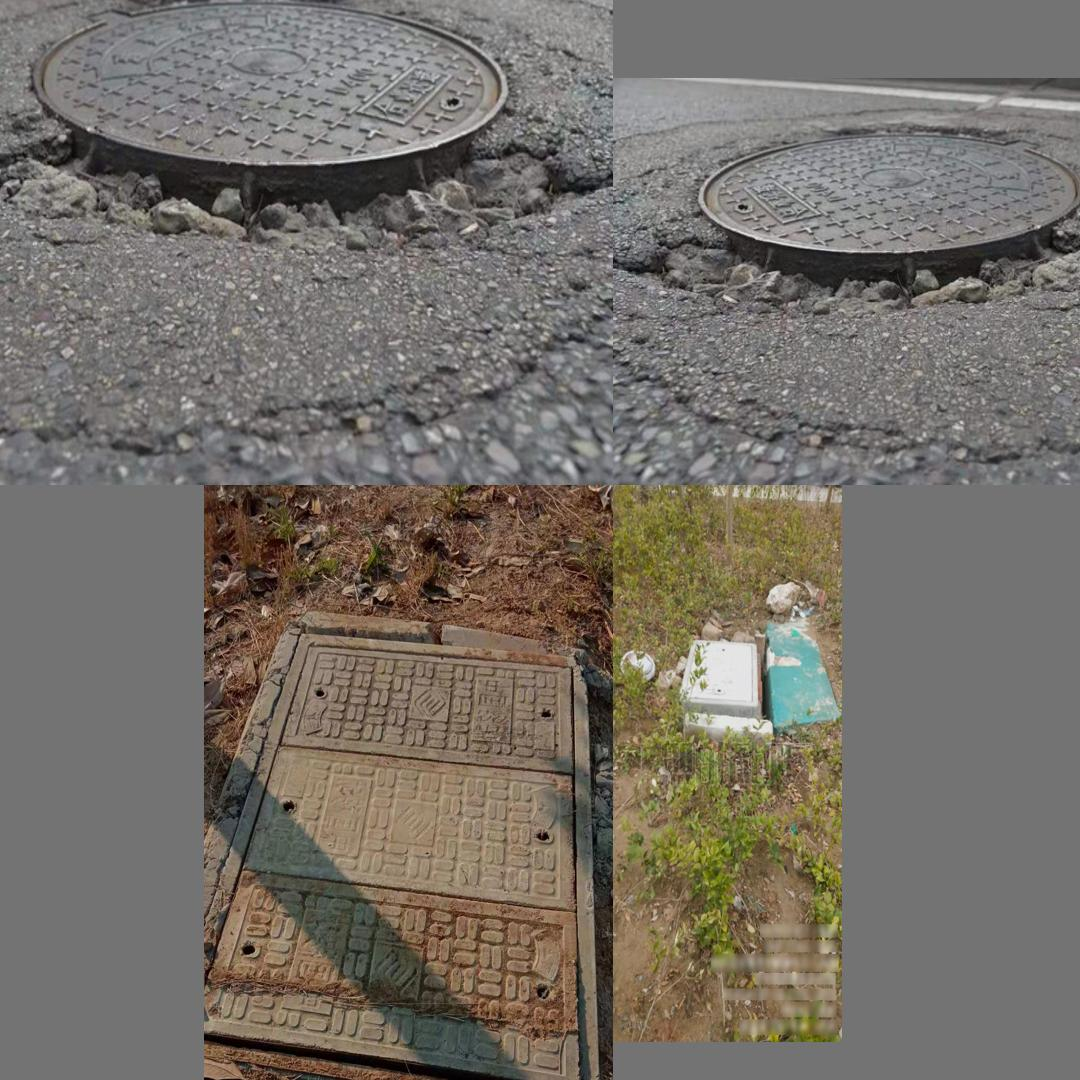circle: (204, 614, 607, 1080), (0, 0, 602, 307), (623, 117, 1080, 337), (673, 632, 774, 734)
